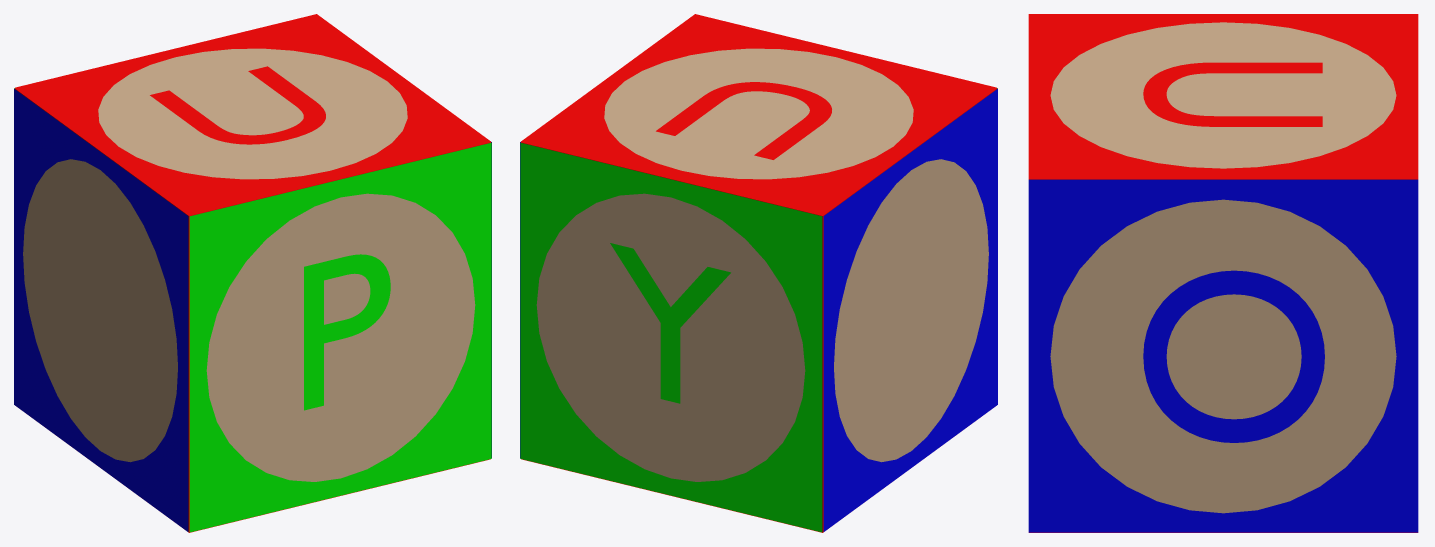
3 views of the same model, side by side, from view 1: azimuth 30°, elevation 25°; view 2: azimuth 150°, elevation 25°; view 3: azimuth 270°, elevation 25° (orthographic). The views are drawn at different scales.
Visible parts, largest first — view 1: cube; view 2: cube; view 3: cube.
Boxes of the visible parts, bbox=[...] form: cube: bbox=[14, 14, 491, 532]; cube: bbox=[520, 14, 997, 532]; cube: bbox=[1028, 14, 1418, 532].
Bounding box in the file's own units: 0.0455 × 0.0456 × 0.0456.
